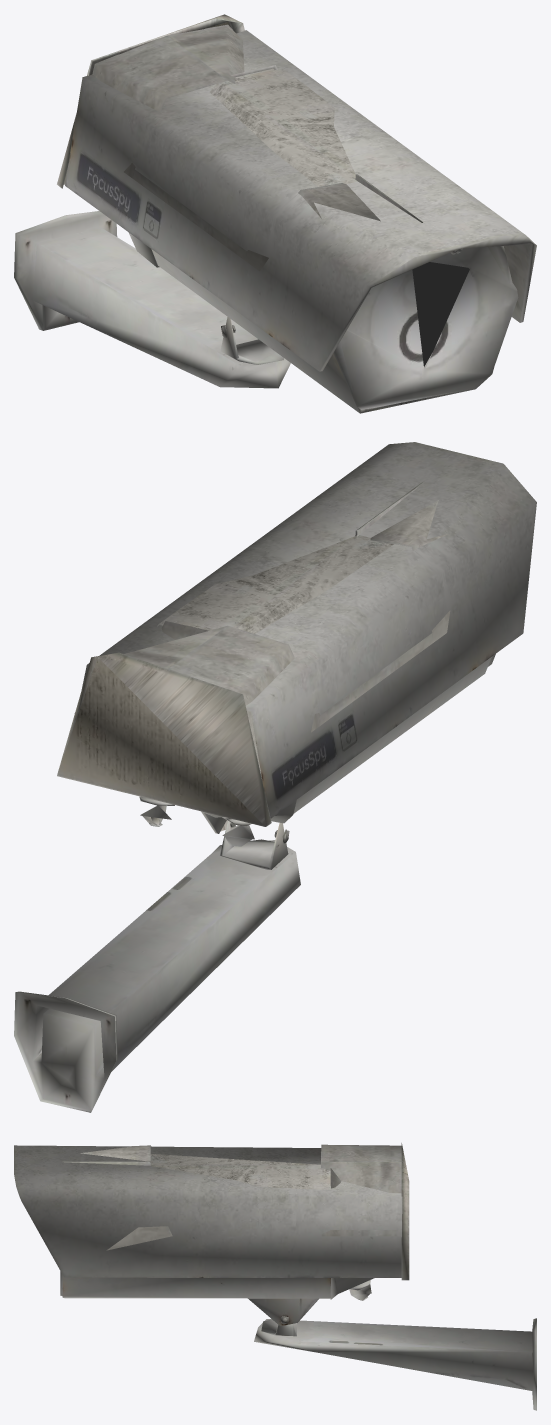
The model's file is security_camera_01.glb.
3 views of the same model, one above another, from view 1: azimuth 30°, elevation 25°; view 2: azimuth 150°, elevation 25°; view 3: azimuth 270°, elevation 25° (orthographic). The views are drawn at different scales.
Parts seen in each view (by area): view 1: security_camera_01; view 2: security_camera_01; view 3: security_camera_01.
Part boxes in pixels (bbox=[...]): security_camera_01: bbox=[14, 14, 536, 413]; security_camera_01: bbox=[14, 442, 536, 1112]; security_camera_01: bbox=[14, 1143, 536, 1410].
Size of the model in its own units: 0.1696 by 0.2854 by 0.5536.
2 materials, 2 textured.
